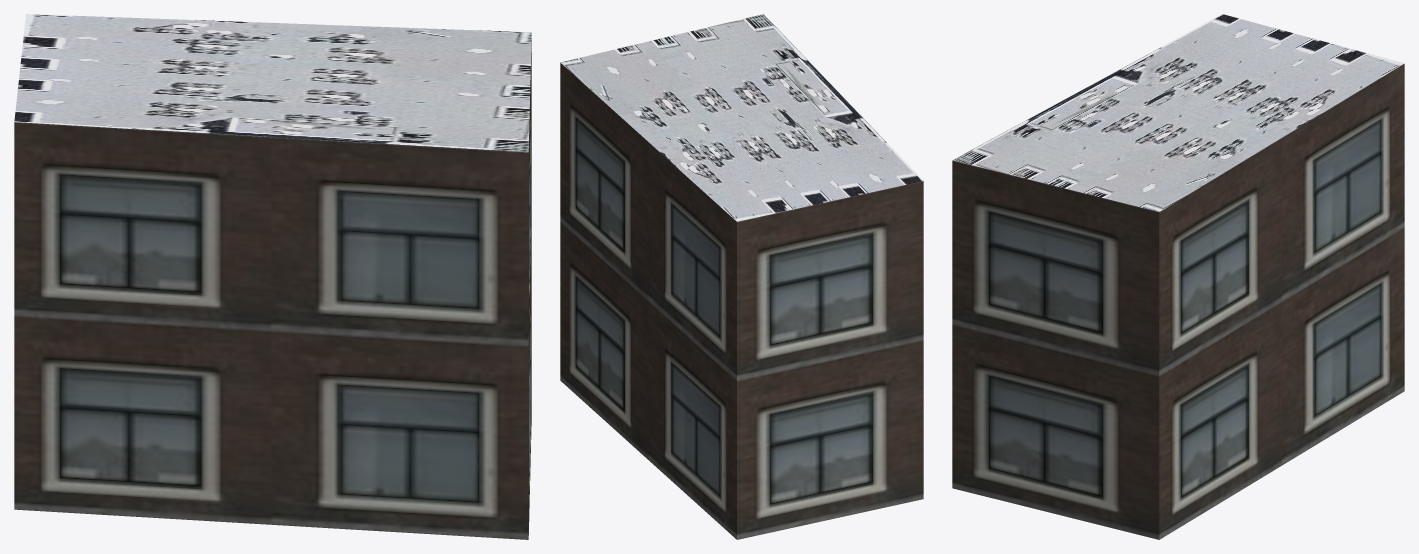
File: ResTex__1943.fbx
3 renders of one model, left to right at view 1: azimuth 30°, elevation 25°; view 2: azimuth 150°, elevation 25°; view 3: azimuth 270°, elevation 25°, orthographic. The views are drawn at different scales.
Parts seen in each view (by area): view 1: CityEngineMaterial_16_m, CityEngineMaterial_15_m; view 2: CityEngineMaterial_16_m, CityEngineMaterial_15_m; view 3: CityEngineMaterial_16_m, CityEngineMaterial_15_m.
Boxes of the visible parts, x1=… form: CityEngineMaterial_16_m: x1=14, y1=39, x2=531, y2=539; CityEngineMaterial_15_m: x1=14, y1=14, x2=531, y2=152; CityEngineMaterial_16_m: x1=560, y1=63, x2=923, y2=539; CityEngineMaterial_15_m: x1=560, y1=14, x2=923, y2=221; CityEngineMaterial_16_m: x1=952, y1=63, x2=1404, y2=539; CityEngineMaterial_15_m: x1=952, y1=14, x2=1404, y2=211.
Size of the model in its own units: 7.78 by 6 by 7.51.
2 materials, 2 textured.
